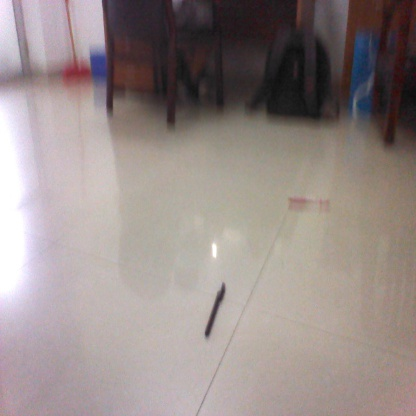pen: (204, 281, 230, 340), (289, 194, 336, 209)
